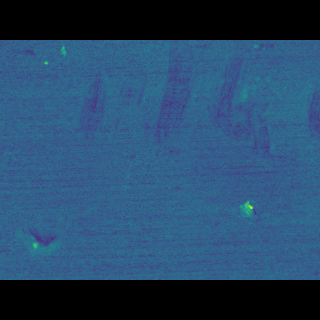Loch: (65, 75, 320, 166)
